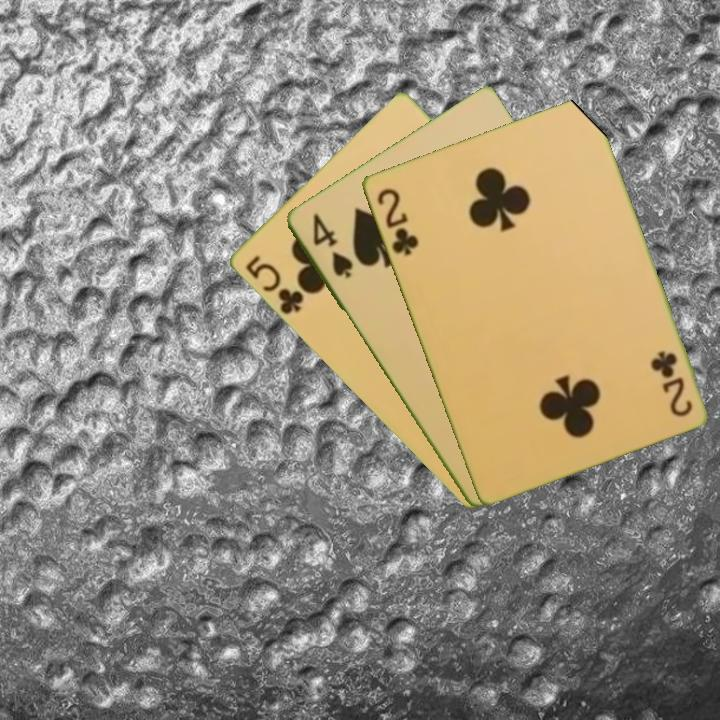2c: (373, 184, 421, 259), (648, 347, 695, 420)
4s: (308, 210, 356, 282)
5c: (241, 251, 307, 317)
